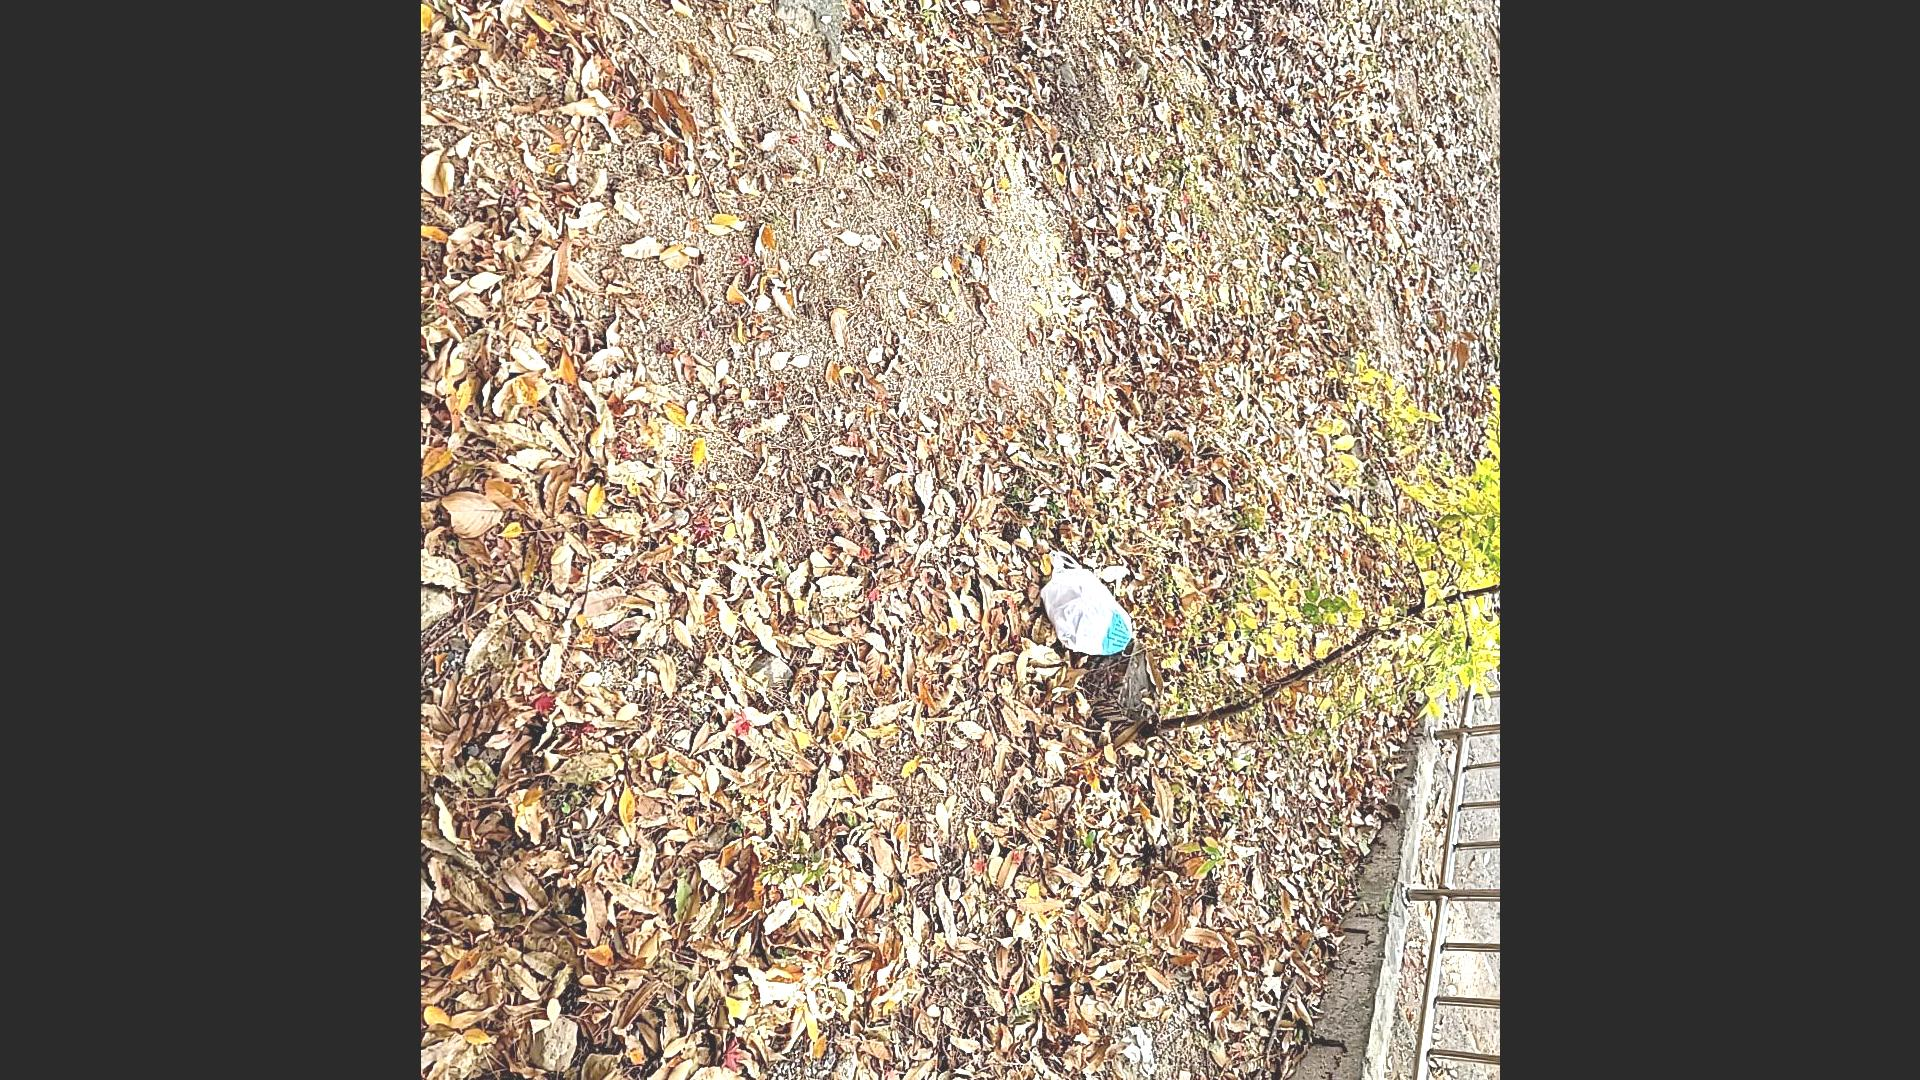white_bag: (1035, 549, 1134, 659)
